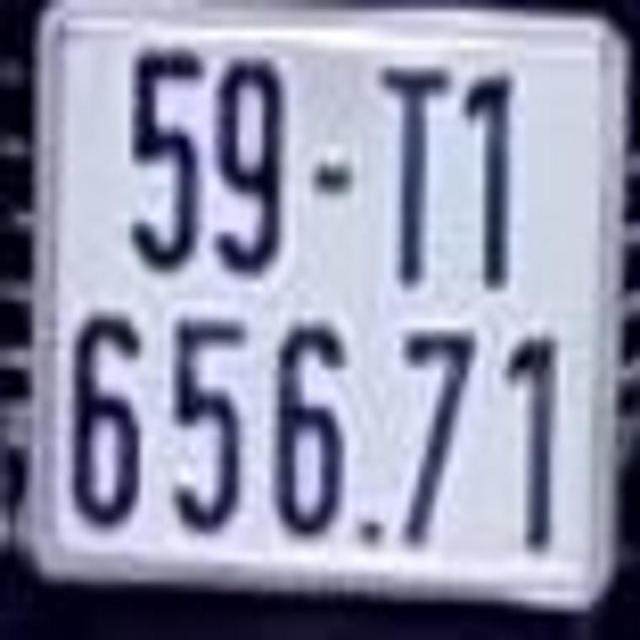1: (498, 330, 556, 552), (460, 66, 514, 292)
5: (168, 314, 252, 537), (121, 43, 202, 272)
6: (273, 316, 347, 542), (70, 312, 144, 527)
7: (391, 322, 476, 549)
9: (210, 46, 284, 272)
T: (376, 56, 452, 294)
